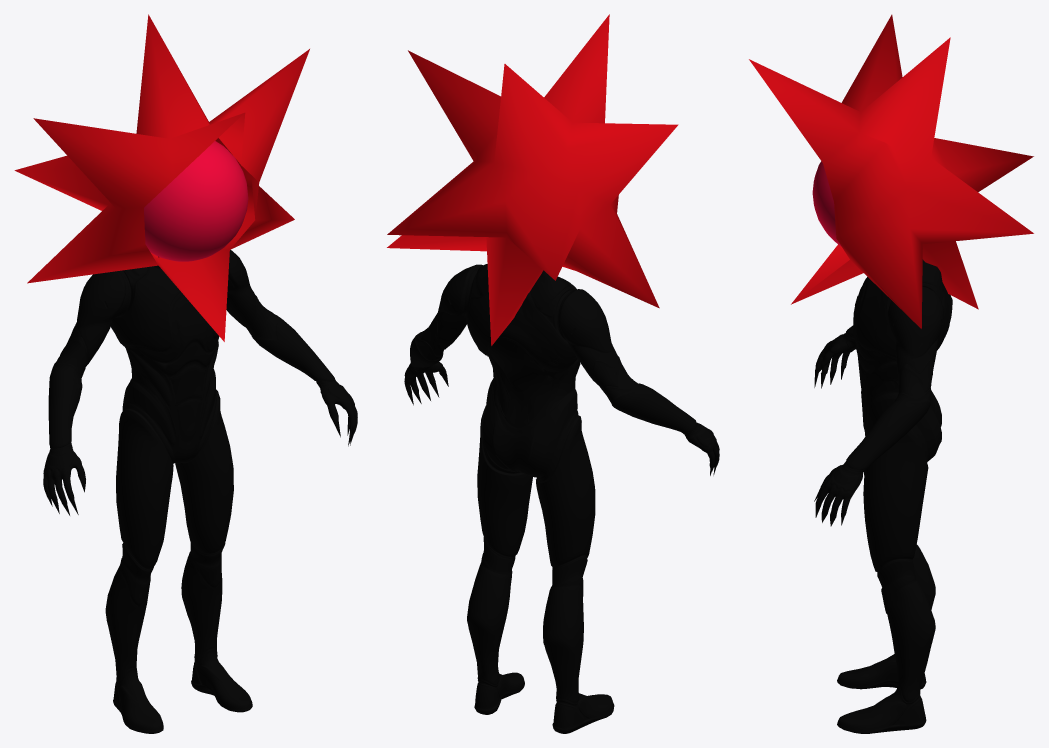
Rendered from Virualbeast_NPC_Regular.fbx.
3 views of the same model, side by side, from view 1: azimuth 30°, elevation 25°; view 2: azimuth 150°, elevation 25°; view 3: azimuth 270°, elevation 25° (orthographic).
Parts seen in each view (by area): view 1: Icosphere; view 2: Icosphere; view 3: Icosphere.
Part boxes in pixels (x1,y1,x2,y2): Icosphere: (14,14,357,733); Icosphere: (387,14,719,733); Icosphere: (749,14,1033,733).
Size of the model in its own units: 111 by 229 by 88.62.
